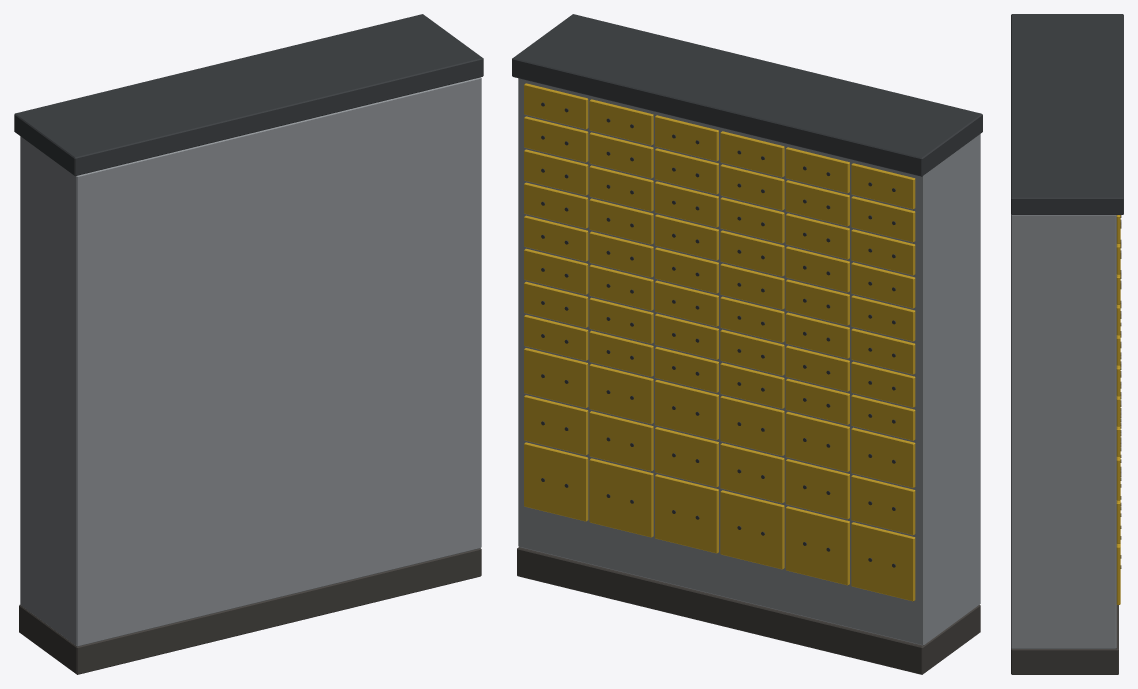
File: prop_deposit_boxes.glb
3 views of the same model, side by side, from view 1: azimuth 30°, elevation 25°; view 2: azimuth 150°, elevation 25°; view 3: azimuth 270°, elevation 25° (orthographic). The views are drawn at different scales.
Parts seen in each view (by area): view 1: Boxes; view 2: Boxes; view 3: Boxes.
Part boxes in pixels (box(x1,y1,x2,y2)): Boxes: box(14, 14, 483, 674); Boxes: box(512, 14, 982, 674); Boxes: box(1011, 14, 1123, 674).
Size of what is drawn, in the model's own units: 1.82 by 2.2 by 0.47.
